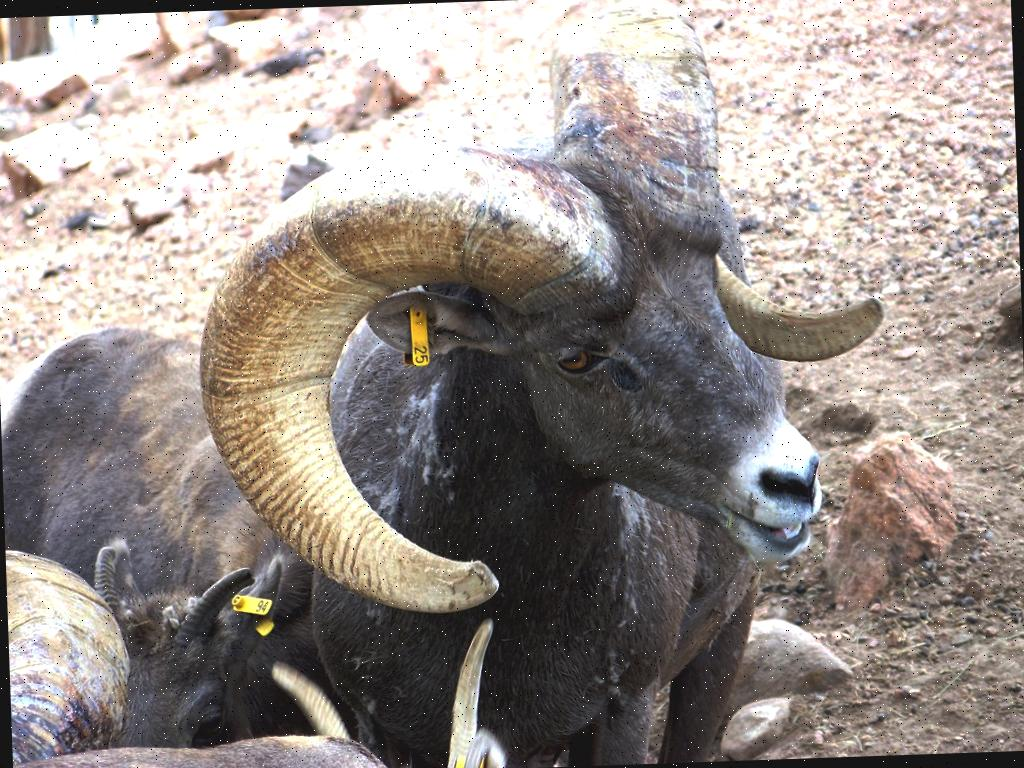Sheep: (0, 0, 899, 768)
